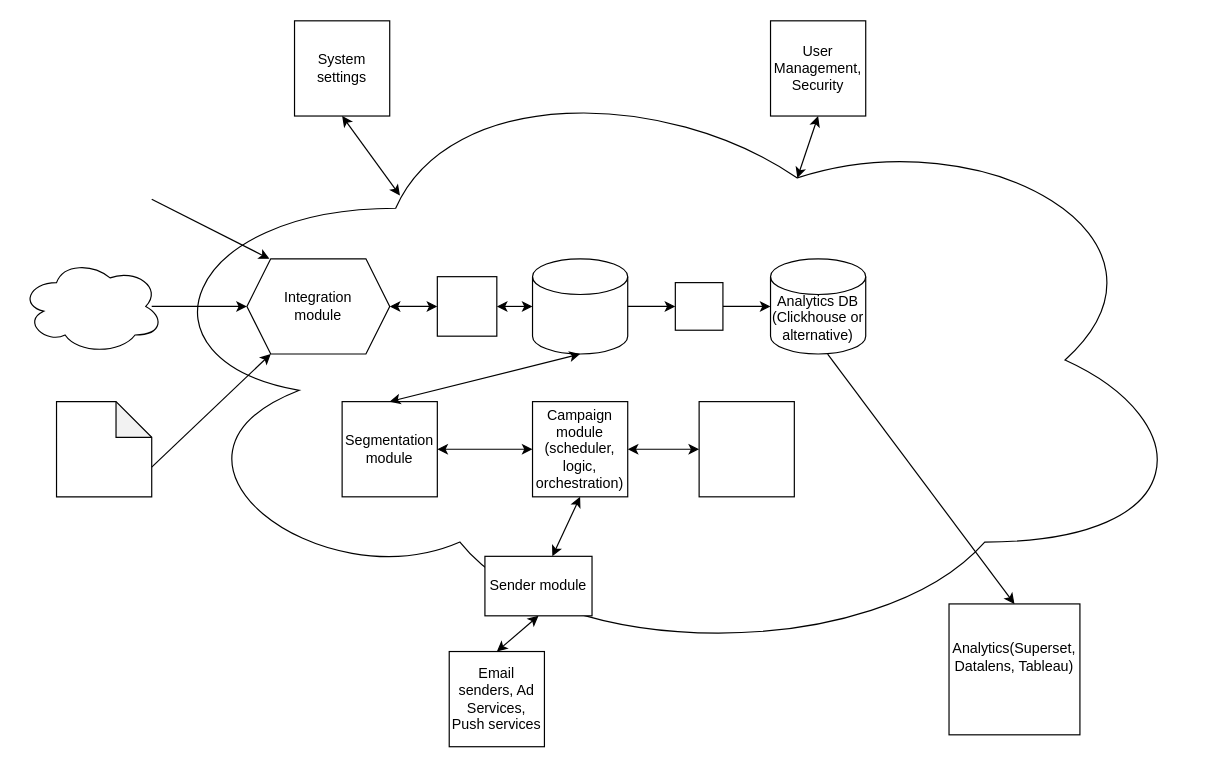
The diagram is 1220 pixels wide and 768 high, and some of its shapes have lost their labels. The shapes that lost their labels are listed below. From the top down, each one's centre as x and y in pixels, then its label:
At pixel 466 305: "Kafka, Redis?".
At pixel 579 306: "Main operational DB (PostgreSQL?)".
At pixel 698 305: "Airflow or Airbyte".
At pixel 746 448: "Content module".
